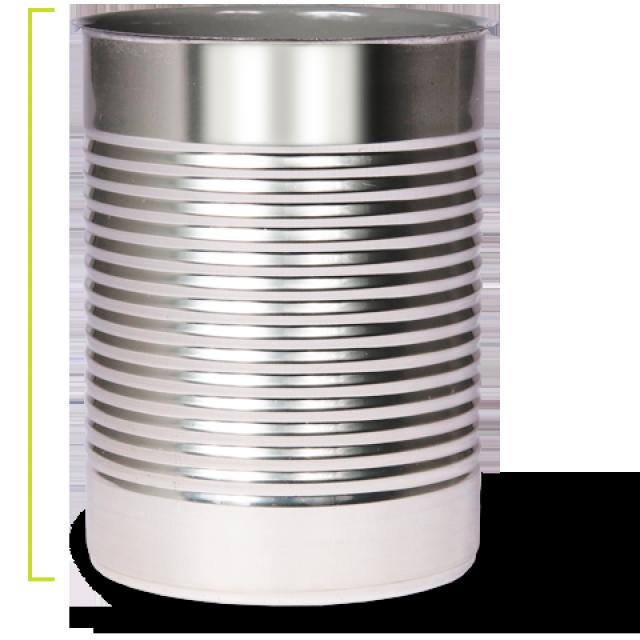metal: (74, 2, 498, 623)
